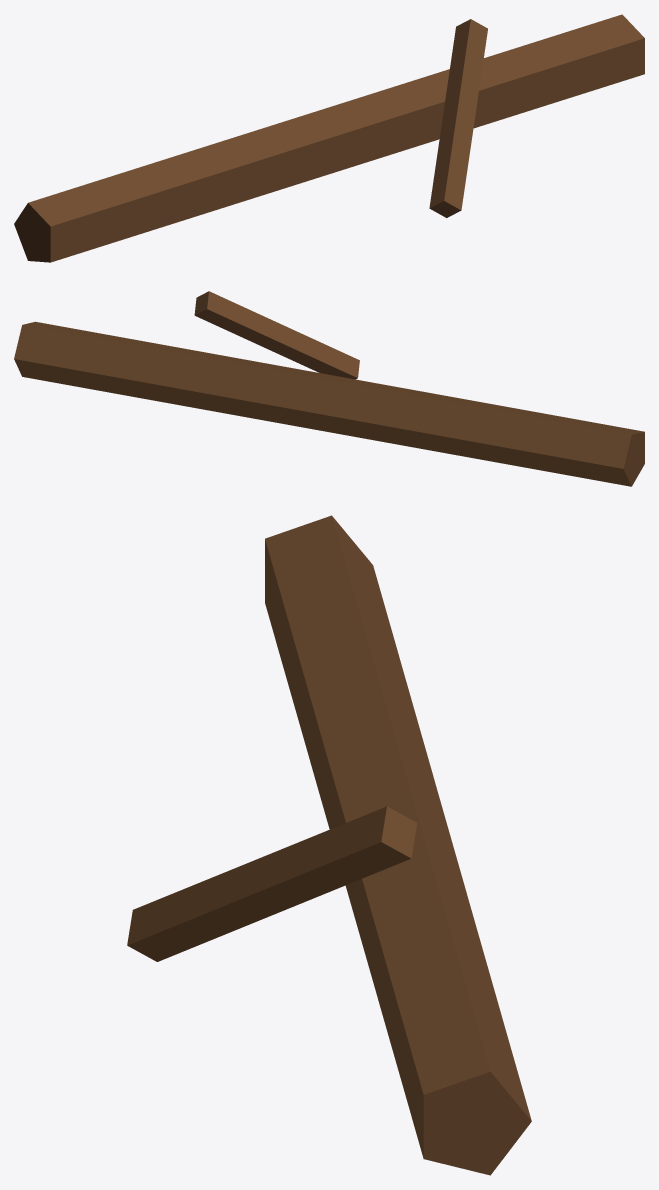
The model's file is stick.glb.
3 views of the same model, one above another, from view 1: azimuth 30°, elevation 25°; view 2: azimuth 150°, elevation 25°; view 3: azimuth 270°, elevation 25° (orthographic). The views are drawn at different scales.
Visible parts, largest first — view 1: stick.001, twig; view 2: stick.001, twig; view 3: stick.001, twig.
Boxes of the visible parts, x1,y1,x2,y2 form: stick.001: (14,14,644,262); twig: (429,19,487,217); stick.001: (14,321,644,486); twig: (194,291,359,379); stick.001: (265,515,531,1175); twig: (127,806,417,961).
Size of the model in its own units: 0.5515 by 0.1066 by 0.1679.
